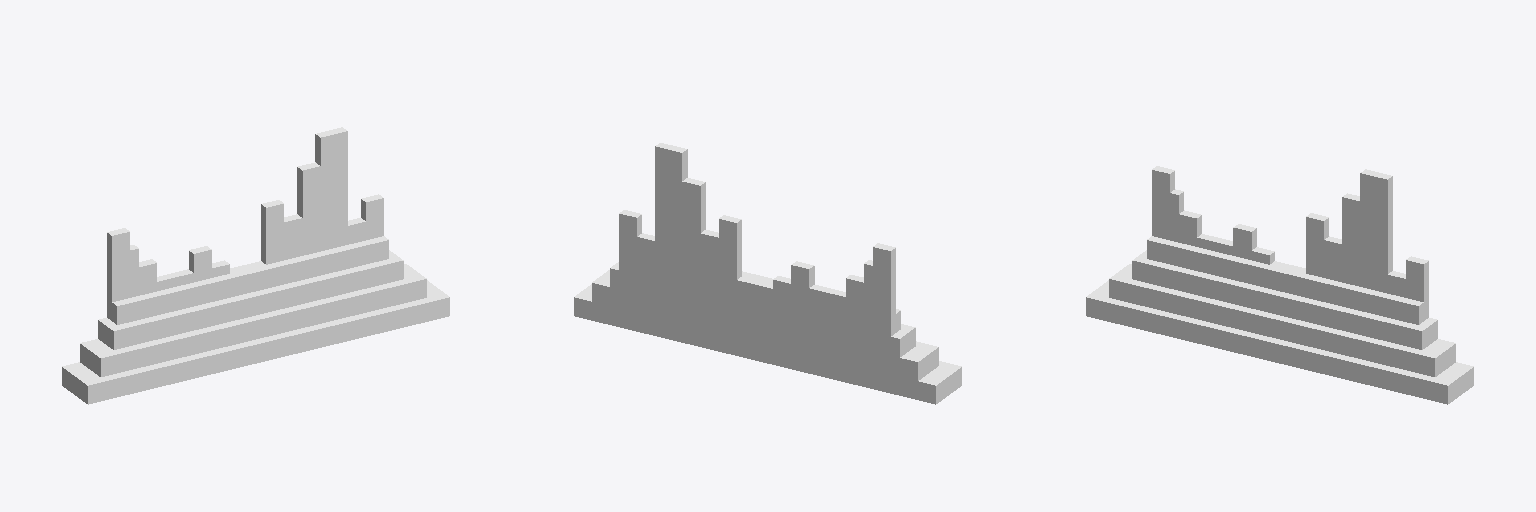
Rendered from MC_CityGS.obj.
3 views of the same model, side by side, from view 1: azimuth 30°, elevation 25°; view 2: azimuth 150°, elevation 25°; view 3: azimuth 330°, elevation 25° (orthographic).
Visible parts, largest first — view 1: MC_CityGS; view 2: MC_CityGS; view 3: MC_CityGS.
Part boxes in pixels (bbox=[...]): MC_CityGS: bbox=[62, 127, 449, 404]; MC_CityGS: bbox=[574, 143, 961, 404]; MC_CityGS: bbox=[1086, 166, 1473, 404].
Size of the model in its own units: 40 by 20 by 5.